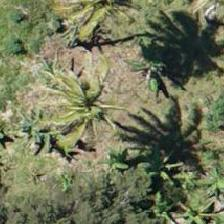coconut_tree: (22, 67, 112, 157)
